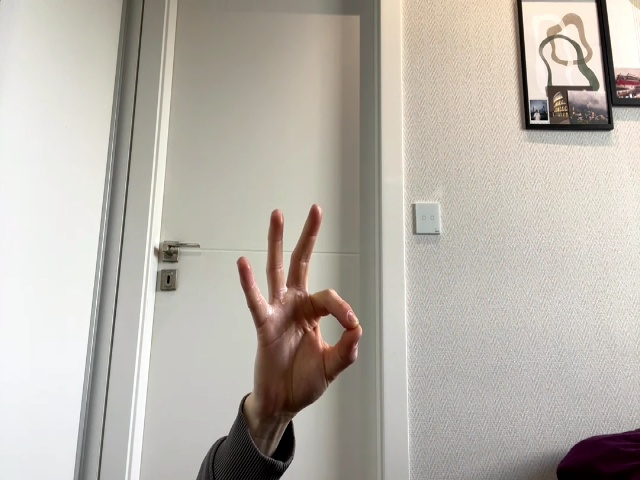O: (238, 205, 362, 406)
